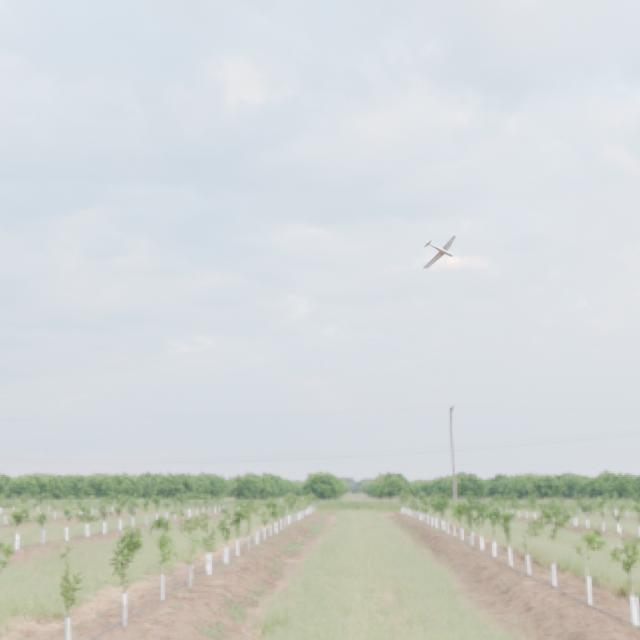Airaplan: (423, 235, 456, 269)
